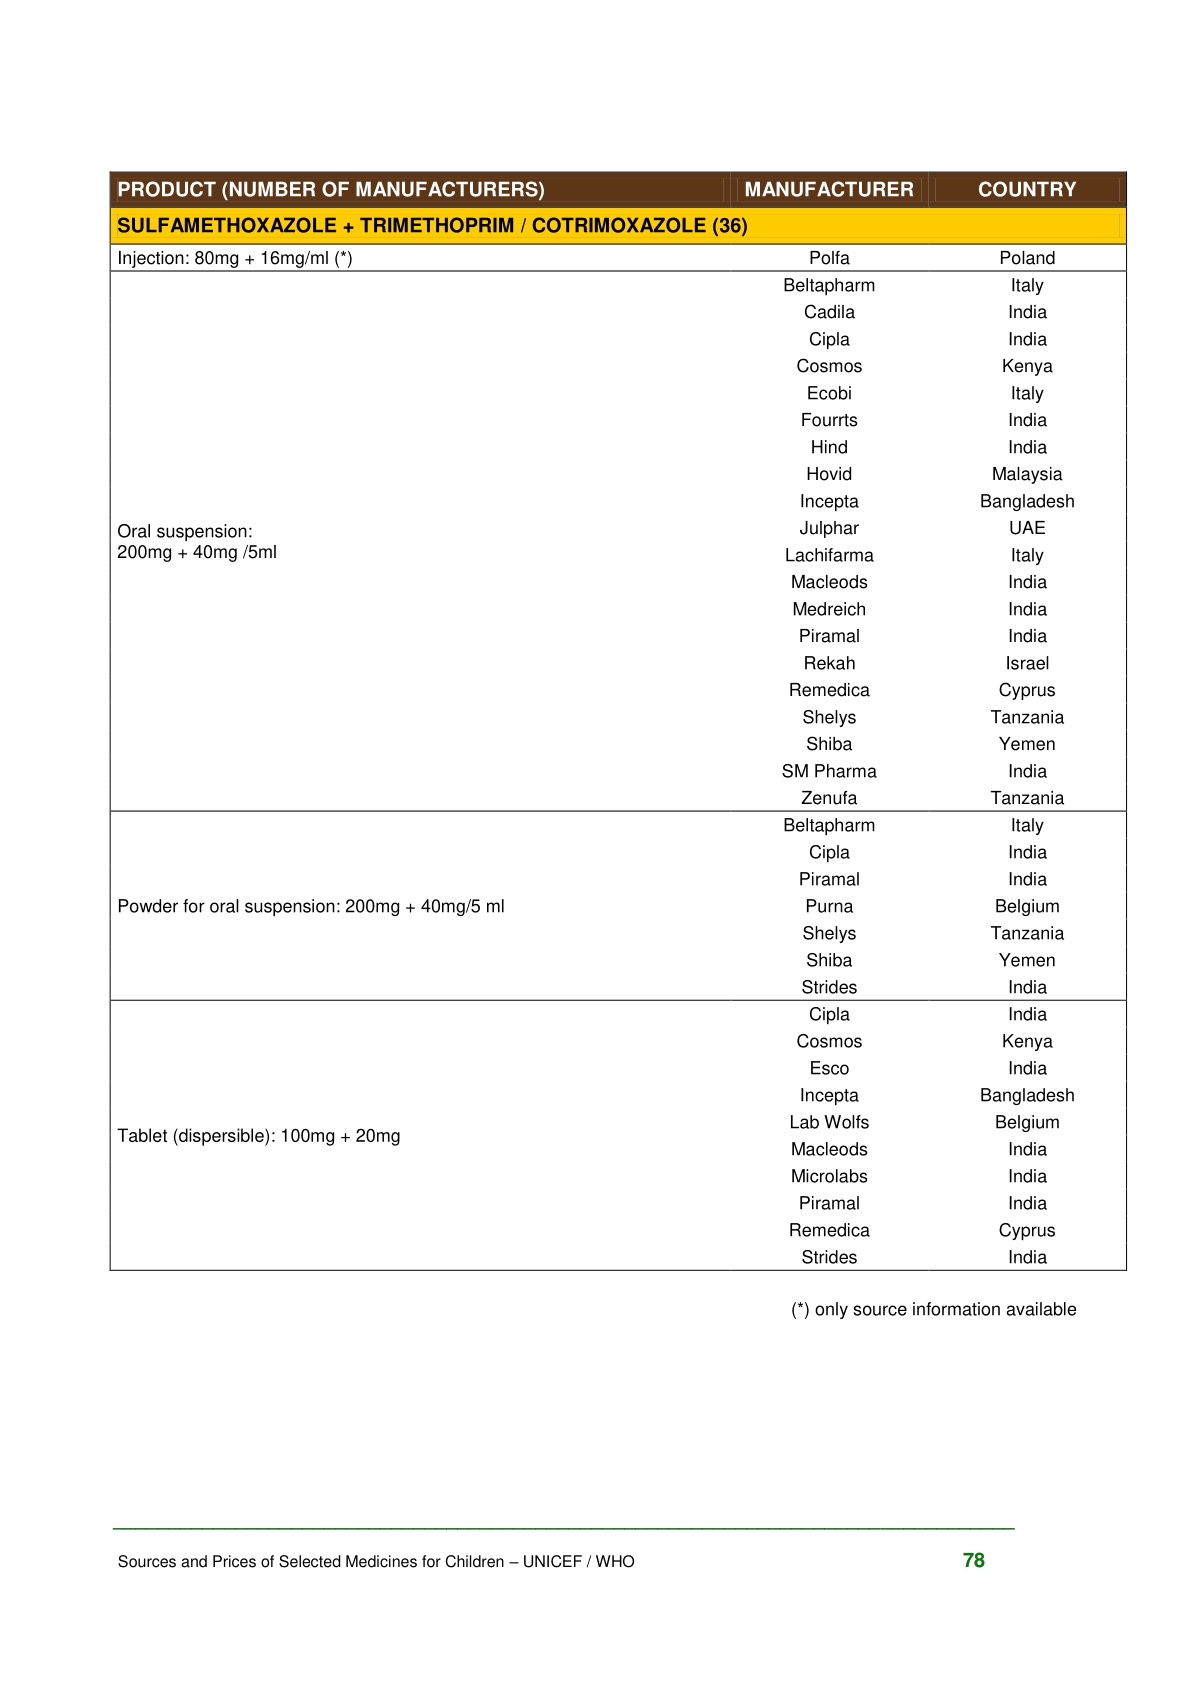partial_lined_merged_cells: (107, 169, 1128, 1272)
